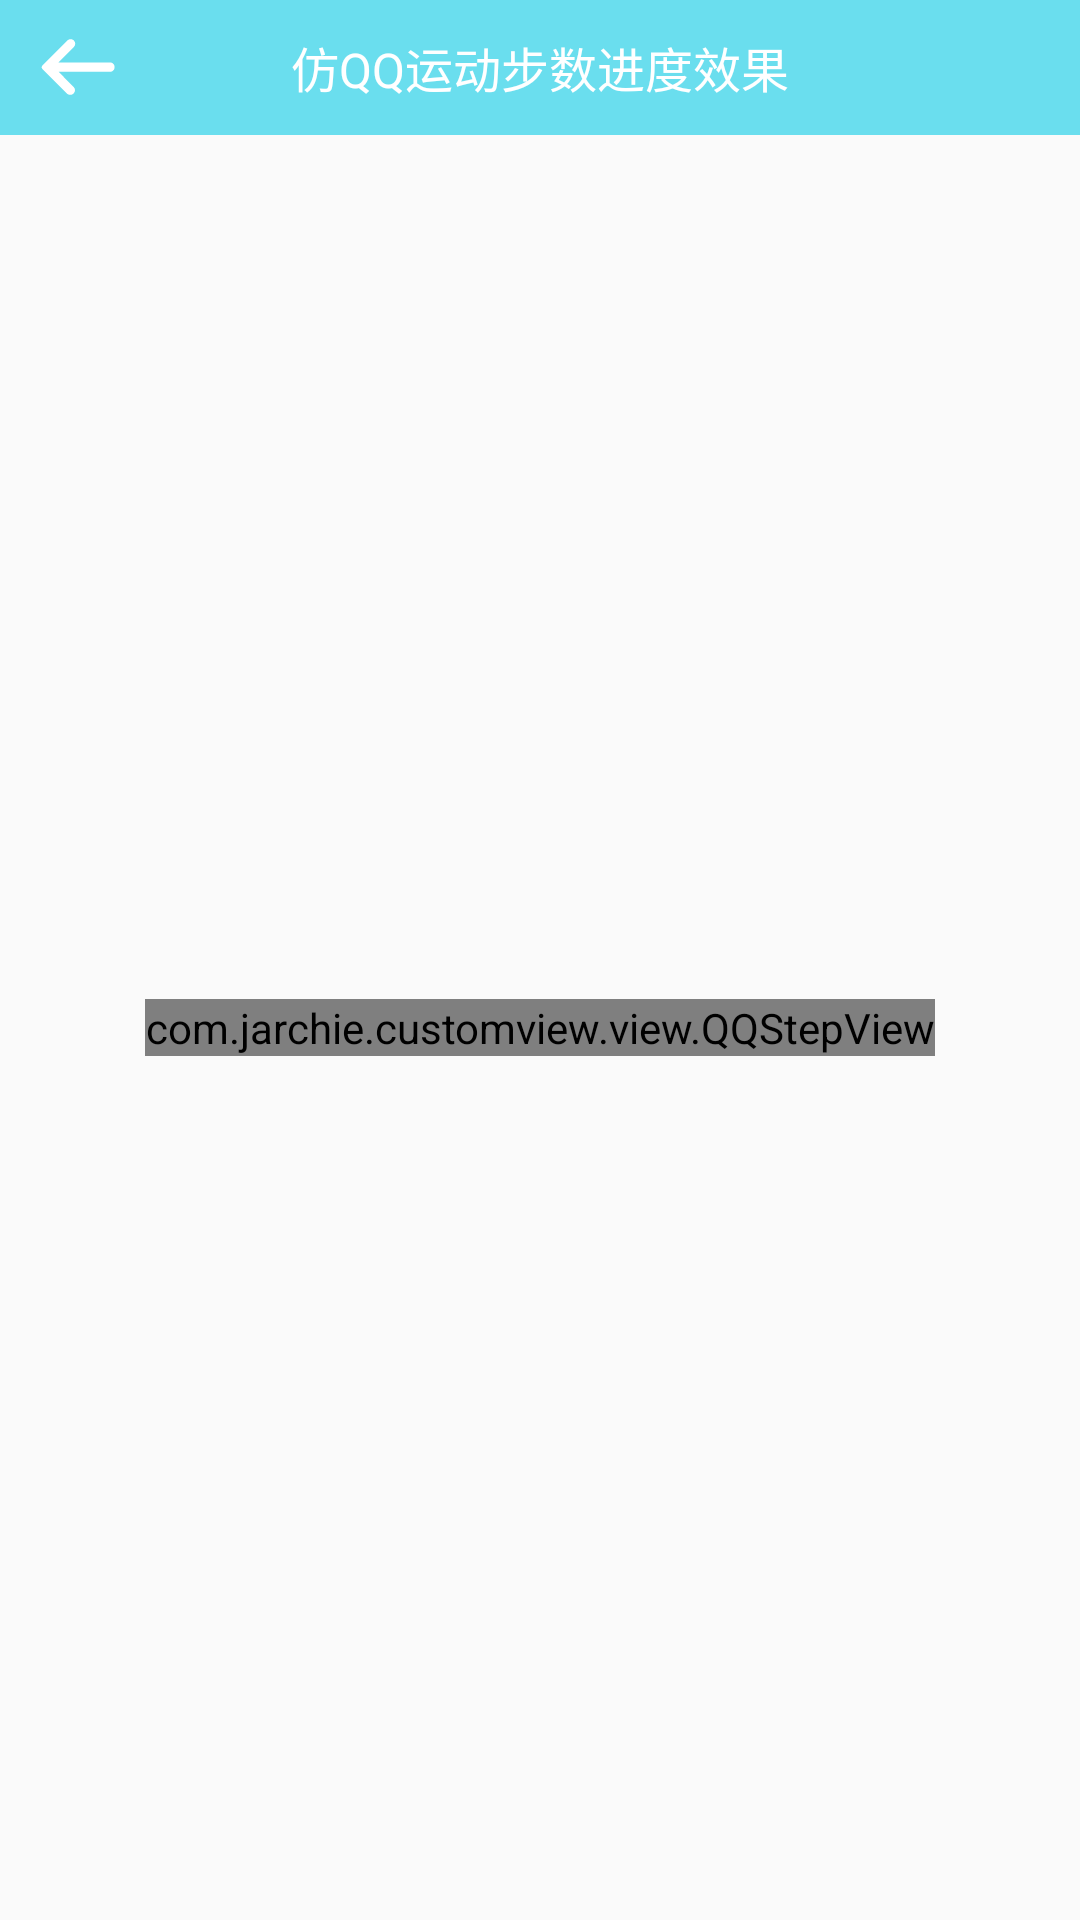

Where to tap for icons on this 1080×1920 app screen, as (x,y):
back: (78,67)
